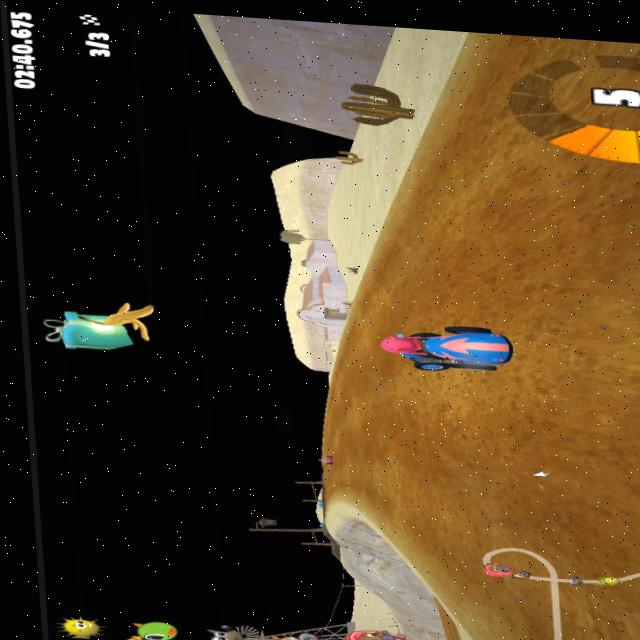enemy_kart: (315, 454, 336, 469)
player_kart: (367, 309, 547, 391)
track: (366, 375, 640, 545), (522, 38, 640, 395), (452, 41, 536, 317), (492, 535, 640, 640), (376, 250, 469, 312), (387, 187, 469, 253), (337, 337, 369, 496), (456, 531, 492, 629), (400, 150, 455, 191), (423, 529, 454, 581), (420, 102, 451, 149), (321, 383, 340, 428), (397, 525, 419, 555), (317, 473, 329, 511), (327, 470, 341, 501), (348, 306, 361, 333), (326, 429, 334, 454)
